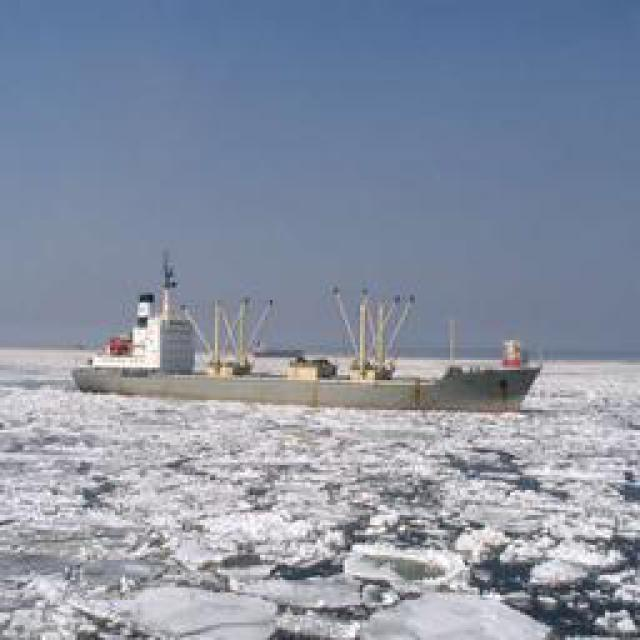Ship: (72, 320, 542, 415)
